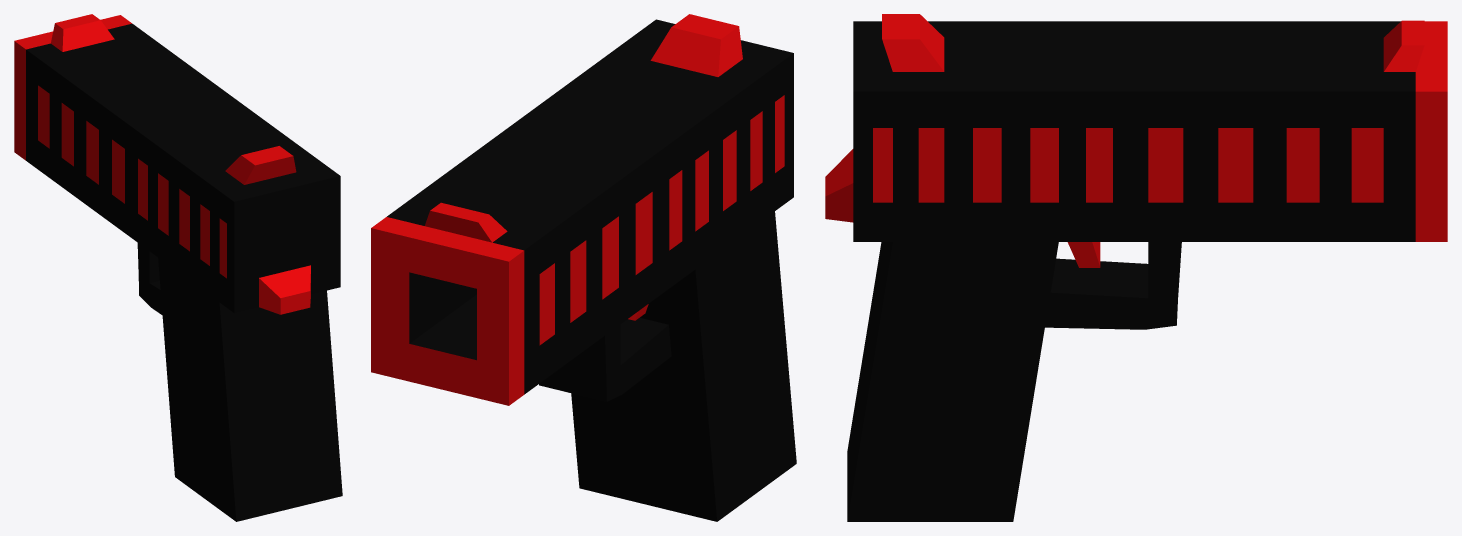
The model's file is gun1.fbx.
The picture shows the model from 3 angles, left to right: view 1: azimuth 30°, elevation 25°; view 2: azimuth 150°, elevation 25°; view 3: azimuth 270°, elevation 25°; orthographic projection. The views are drawn at different scales.
Visible parts, largest first — view 1: Cube; view 2: Cube; view 3: Cube.
Part boxes in pixels (left/top/right/bottom): Cube: left=14, top=14, right=342, bottom=521; Cube: left=371, top=14, right=796, bottom=521; Cube: left=825, top=14, right=1447, bottom=521.
Bounding box in the file's own units: 200 × 610 × 750.
